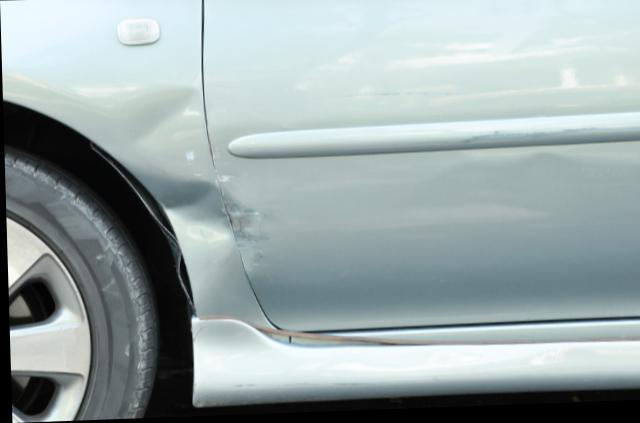dent: (434, 158, 572, 229), (135, 166, 234, 244), (122, 90, 199, 148), (217, 191, 264, 273)
